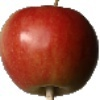apple: (1, 6, 100, 97)
